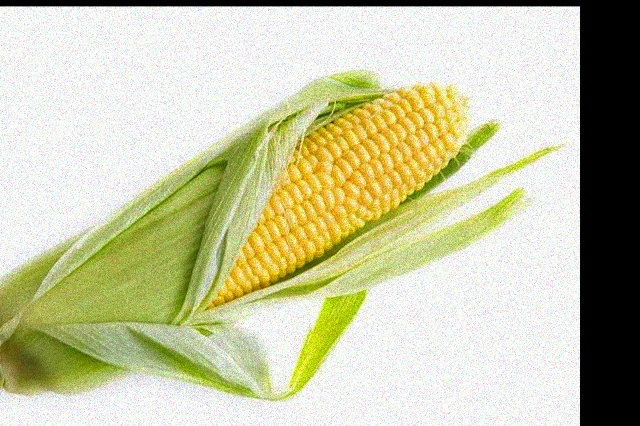corn: (184, 86, 467, 314)
